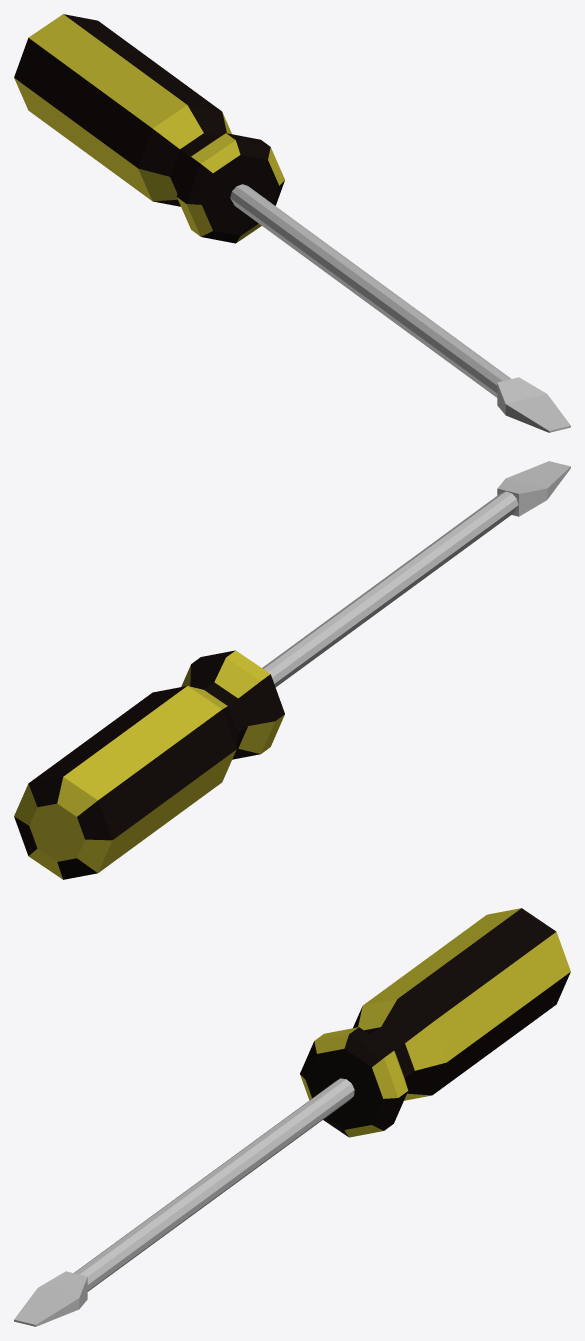
File: Screwdriver_Single.fbx
3 renders of one model, top to bottom at view 1: azimuth 30°, elevation 25°; view 2: azimuth 150°, elevation 25°; view 3: azimuth 330°, elevation 25°, orthographic.
Parts seen in each view (by area): view 1: Screwdriver_Single; view 2: Screwdriver_Single; view 3: Screwdriver_Single.
Boxes of the visible parts, <box> form: Screwdriver_Single: <box>14,14,570,432</box>; Screwdriver_Single: <box>14,461,570,879</box>; Screwdriver_Single: <box>14,908,570,1326</box>.
Size of the model in its own units: 0.0703 by 0.0703 by 0.6205.
